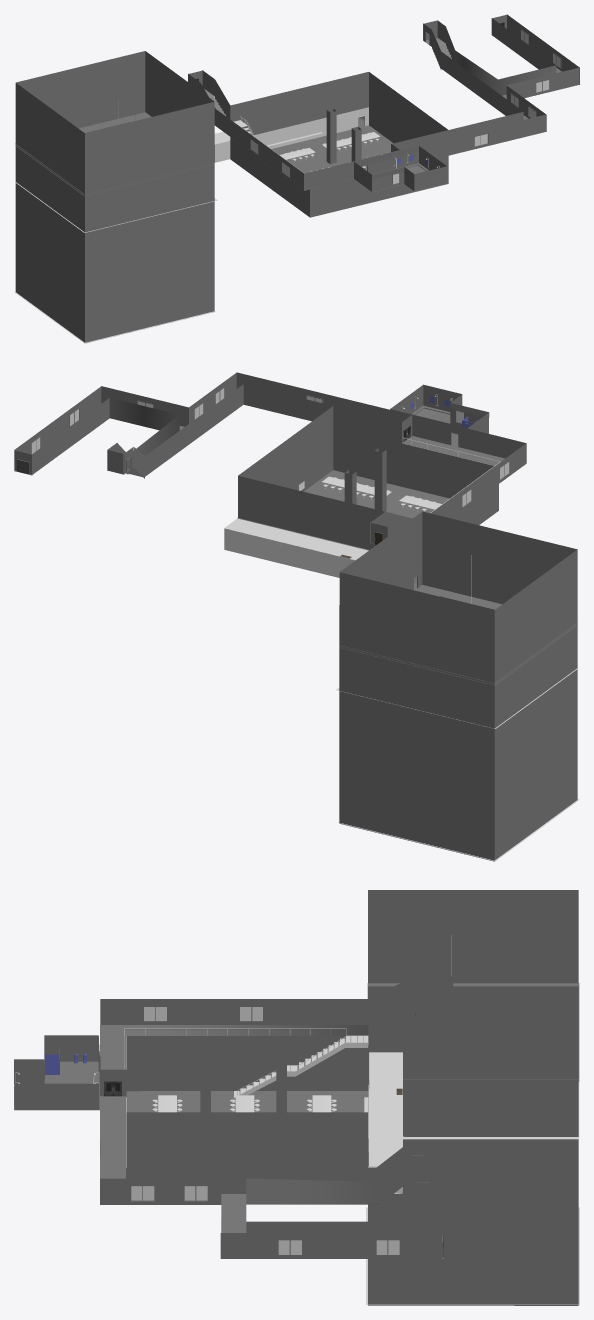
3 views of the same model, one above another, from view 1: azimuth 30°, elevation 25°; view 2: azimuth 150°, elevation 25°; view 3: azimuth 270°, elevation 25° (orthographic). The views are drawn at different scales.
Parts seen in each view (by area): view 1: 2S_Convey, 2S_1F_Wall (×2), 2S_2F_Wall, 2S_2F_ToiletWall, 2S_1F_Floor, Object011, Object013, 2S_1F_Pillar, Object014, 2S_ConveyBelt, 2S_1F_K_WallGlass; view 2: 2S_Convey, 2S_1F_Wall, 2S_2F_Wall, Object026, 2S_1F_Floor, 2S_2F_ToiletWall, Object011, 2S_1F_KitchenCelling, Object013, Object014, 2S_1F_Pillar, 2S_2F_Floor (+1 smaller); view 3: 2S_Convey, 2S_1F_Wall, 2S_2F_Wall, 2S_2F_Floor, Object014, 2S_2F_ToiletWall, 2S_1F_Floor, 2S_1F_KitchenCelling, Object013, 2S_2F_ToiletFloor, 2S_1F_Pillar, 2S_ConveyBelt (+7 smaller).
Boxes of the visible parts, x1=… form: 2S_Convey: x1=15, y1=51, x2=214, y2=342; 2S_1F_Wall (×2): x1=229, y1=72, x2=448, y2=217; 2S_2F_Wall: x1=188, y1=18, x2=556, y2=190; 2S_2F_ToiletWall: x1=354, y1=146, x2=446, y2=191; 2S_1F_Floor: x1=271, y1=118, x2=393, y2=173; Object011: x1=400, y1=114, x2=546, y2=158; Object013: x1=506, y1=67, x2=579, y2=131; 2S_1F_Pillar: x1=326, y1=108, x2=361, y2=164; Object014: x1=507, y1=14, x2=579, y2=84; 2S_ConveyBelt: x1=15, y1=112, x2=214, y2=196; 2S_1F_K_WallGlass: x1=258, y1=124, x2=320, y2=144; 2S_Convey: x1=339, y1=511, x2=577, y2=861; 2S_1F_Wall: x1=238, y1=406, x2=498, y2=549; 2S_2F_Wall: x1=32, y1=384, x2=526, y2=543; Object026: x1=224, y1=528, x2=355, y2=577; 2S_1F_Floor: x1=304, y1=470, x2=449, y2=590; 2S_2F_ToiletWall: x1=390, y1=384, x2=489, y2=444; Object011: x1=236, y1=372, x2=411, y2=422; 2S_1F_KitchenCelling: x1=224, y1=518, x2=368, y2=560; Object013: x1=101, y1=373, x2=236, y2=426; Object014: x1=14, y1=386, x2=101, y2=454; 2S_1F_Pillar: x1=344, y1=448, x2=386, y2=511; 2S_2F_Floor: x1=14, y1=426, x2=504, y2=544; 2S_Convey: x1=368, y1=890, x2=578, y2=1305; 2S_1F_Wall: x1=126, y1=1036, x2=368, y2=1167; 2S_2F_Wall: x1=99, y1=976, x2=453, y2=1246; 2S_2F_Floor: x1=100, y1=1013, x2=443, y2=1258; Object014: x1=220, y1=1233, x2=442, y2=1258; 2S_2F_ToiletWall: x1=14, y1=1035, x2=99, y2=1109; 2S_1F_Floor: x1=126, y1=1080, x2=402, y2=1193; 2S_1F_KitchenCelling: x1=369, y1=1052, x2=402, y2=1166; Object013: x1=100, y1=1178, x2=221, y2=1232; 2S_2F_ToiletFloor: x1=14, y1=1061, x2=99, y2=1110; 2S_1F_Pillar: x1=200, y1=1064, x2=286, y2=1112; 2S_ConveyBelt: x1=367, y1=983, x2=579, y2=1081.
Size of the model in its own units: 211 by 97.83 by 152.
